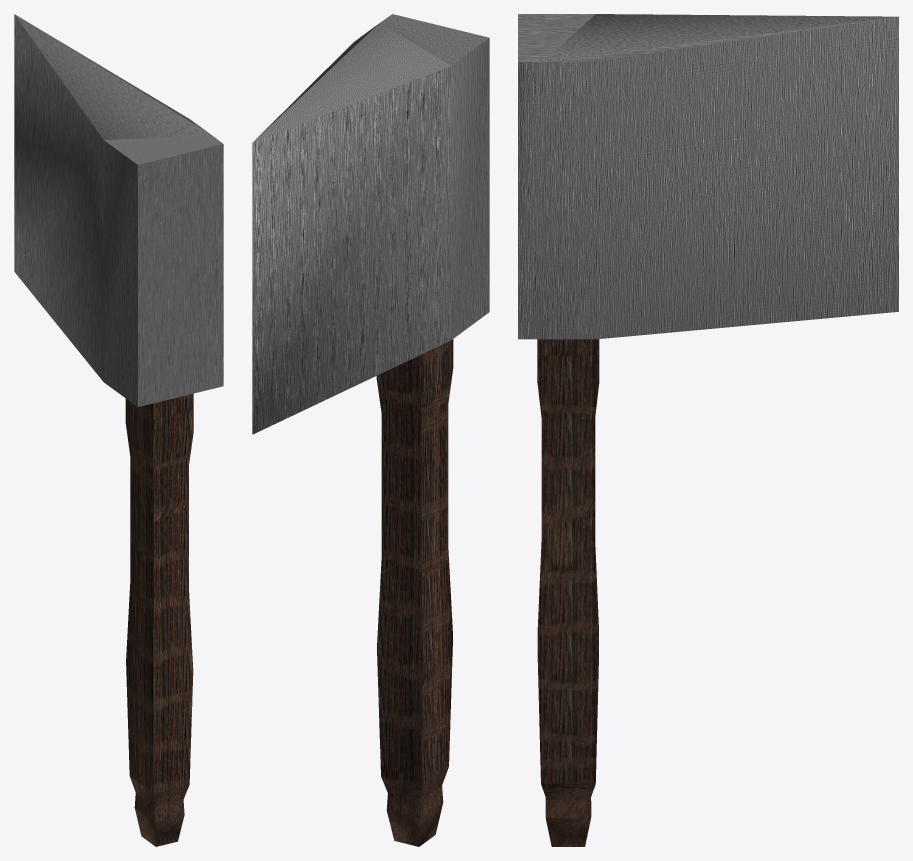
File: Siekiera.obj
3 views of the same model, side by side, from view 1: azimuth 30°, elevation 25°; view 2: azimuth 150°, elevation 25°; view 3: azimuth 270°, elevation 25° (orthographic). The views are drawn at different scales.
Visible parts, largest first — view 1: default, 2; view 2: default, 2; view 3: default, 2.
Boxes of the visible parts, x1=… form: default: x1=14, y1=14, x2=223, y2=406; 2: x1=125, y1=393, x2=193, y2=846; default: x1=252, y1=14, x2=489, y2=434; 2: x1=376, y1=339, x2=453, y2=846; default: x1=518, y1=14, x2=898, y2=339; 2: x1=537, y1=339, x2=599, y2=846.
Bounding box in the file's own units: 0.8377 × 6.68 × 2.8.
Materials: 2 (2 with a texture image).
